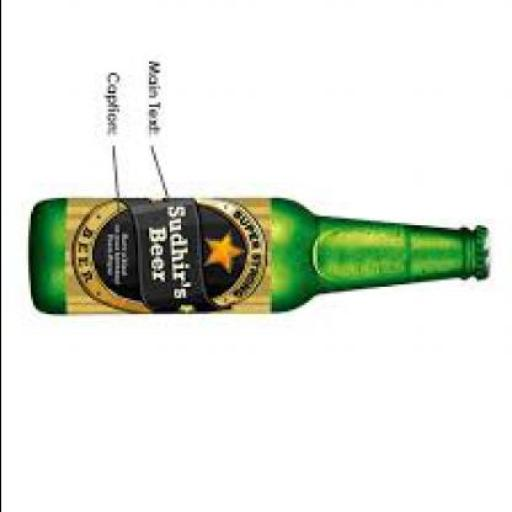glass: (30, 196, 480, 314)
metal: (474, 225, 493, 273)
